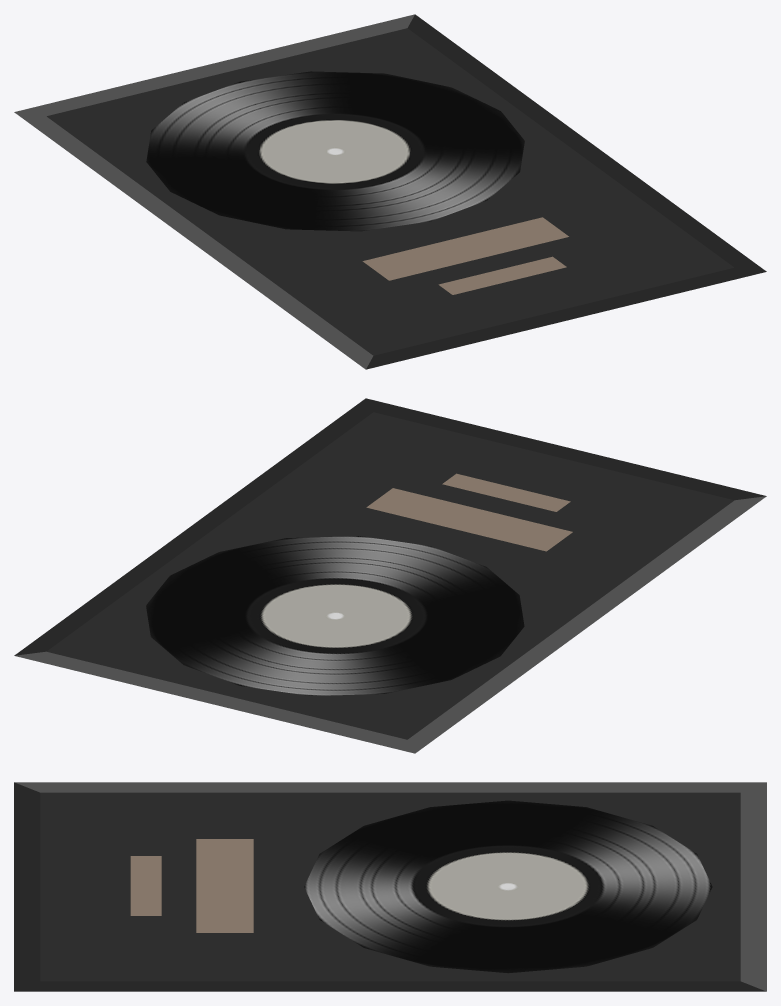
File: Reward A.fbx
The picture shows the model from 3 angles, top to bottom: view 1: azimuth 30°, elevation 25°; view 2: azimuth 150°, elevation 25°; view 3: azimuth 270°, elevation 25°; orthographic projection. The views are drawn at different scales.
Visible parts, largest first — view 1: Cylinder.016; view 2: Cylinder.016; view 3: Cylinder.016.
Boxes of the visible parts, x1,y1,x2,y2 form: Cylinder.016: [14, 14, 766, 369]; Cylinder.016: [14, 398, 766, 753]; Cylinder.016: [14, 782, 766, 991].
Size of the model in its own units: 30.33 by 0.0139 by 46.07.
